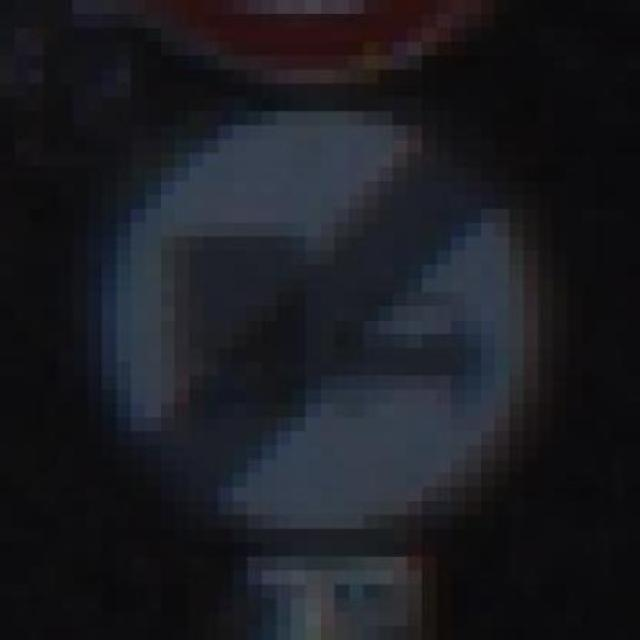Overtaking by trucks is prohibited: (72, 69, 597, 543)
